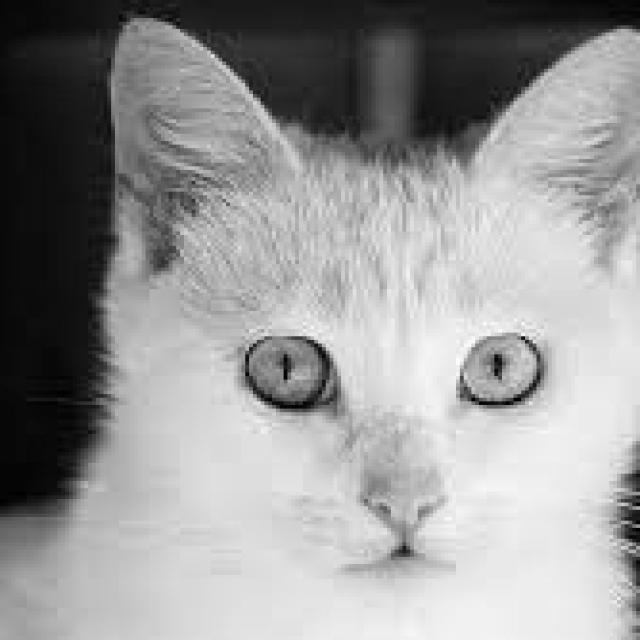van: (61, 0, 640, 604)
